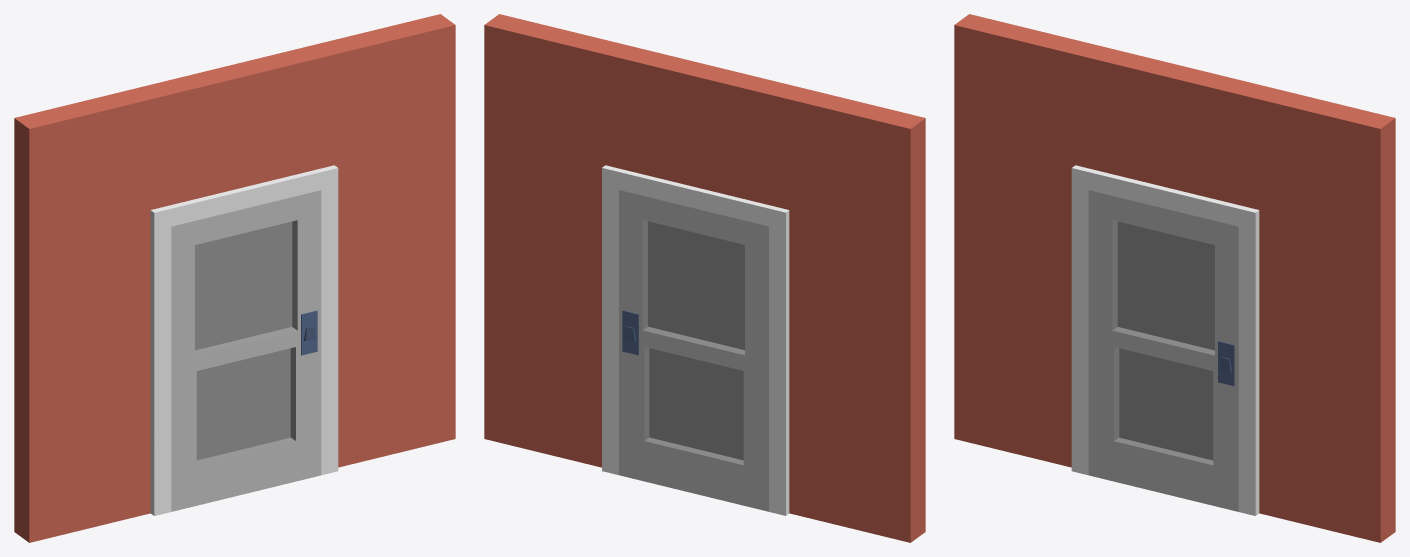
File: DoorWall.fbx
The picture shows the model from 3 angles, left to right: view 1: azimuth 30°, elevation 25°; view 2: azimuth 150°, elevation 25°; view 3: azimuth 330°, elevation 25°; orthographic projection.
Parts seen in each view (by area): view 1: DoorWall, Door; view 2: DoorWall, Door; view 3: DoorWall, Door.
Part boxes in pixels (bbox=[...]): DoorWall: bbox=[14, 14, 455, 542]; Door: bbox=[171, 190, 321, 511]; DoorWall: bbox=[484, 14, 925, 542]; Door: bbox=[619, 190, 768, 511]; DoorWall: bbox=[954, 14, 1395, 542]; Door: bbox=[1088, 190, 1238, 511].
Bounding box in the file's own units: 197 × 183 × 20.87.
